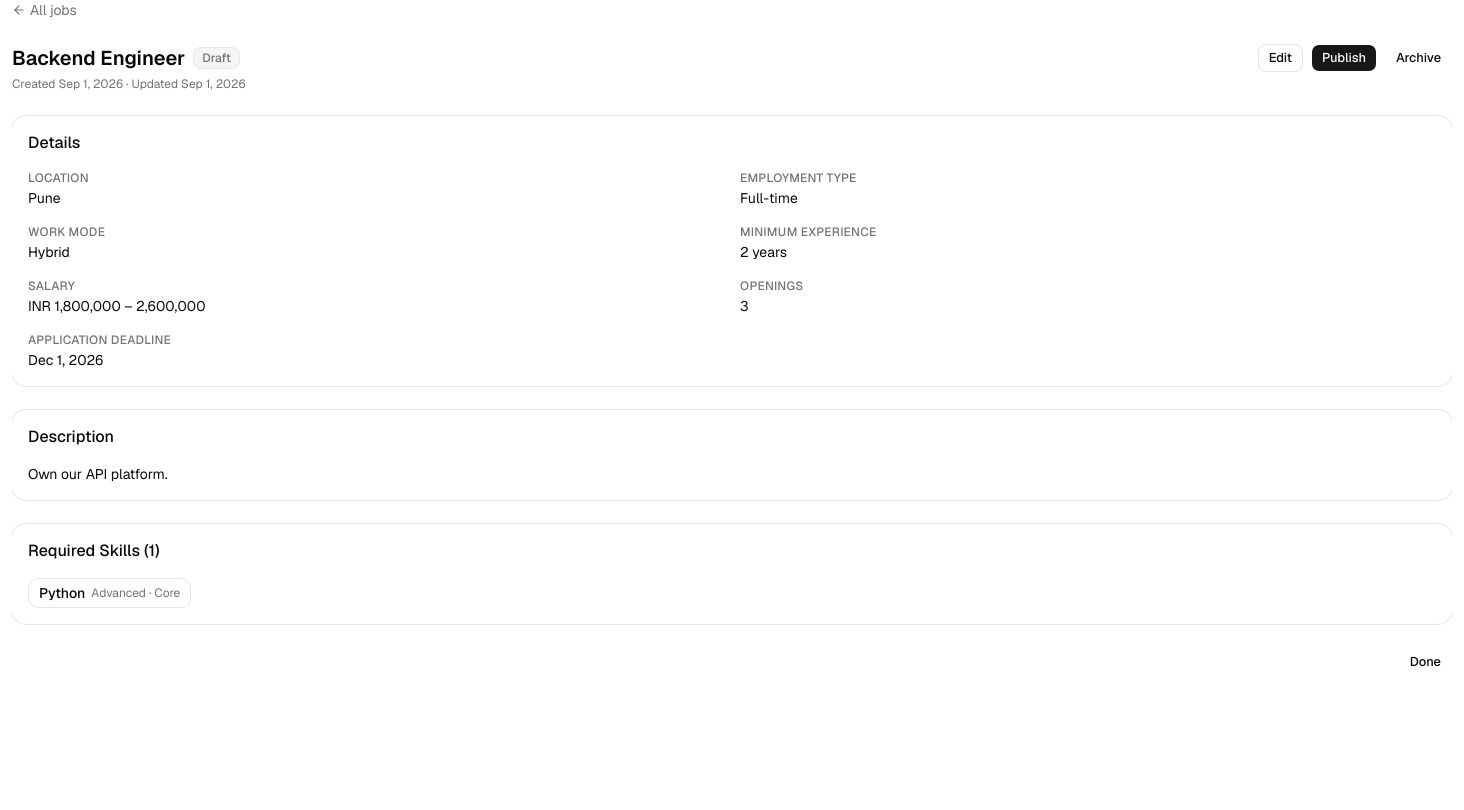
Scenario: JobDetailView › switches to the edit form and saves changes
This screenshot has width=1464, height=810.
Check: the heading "Backend Engineer" is shown, box x1=12 y1=44 x2=185 y2=72
Click the button "Edit". click: click(1280, 58)
box: x1=1258 y1=44 x2=1303 y2=72
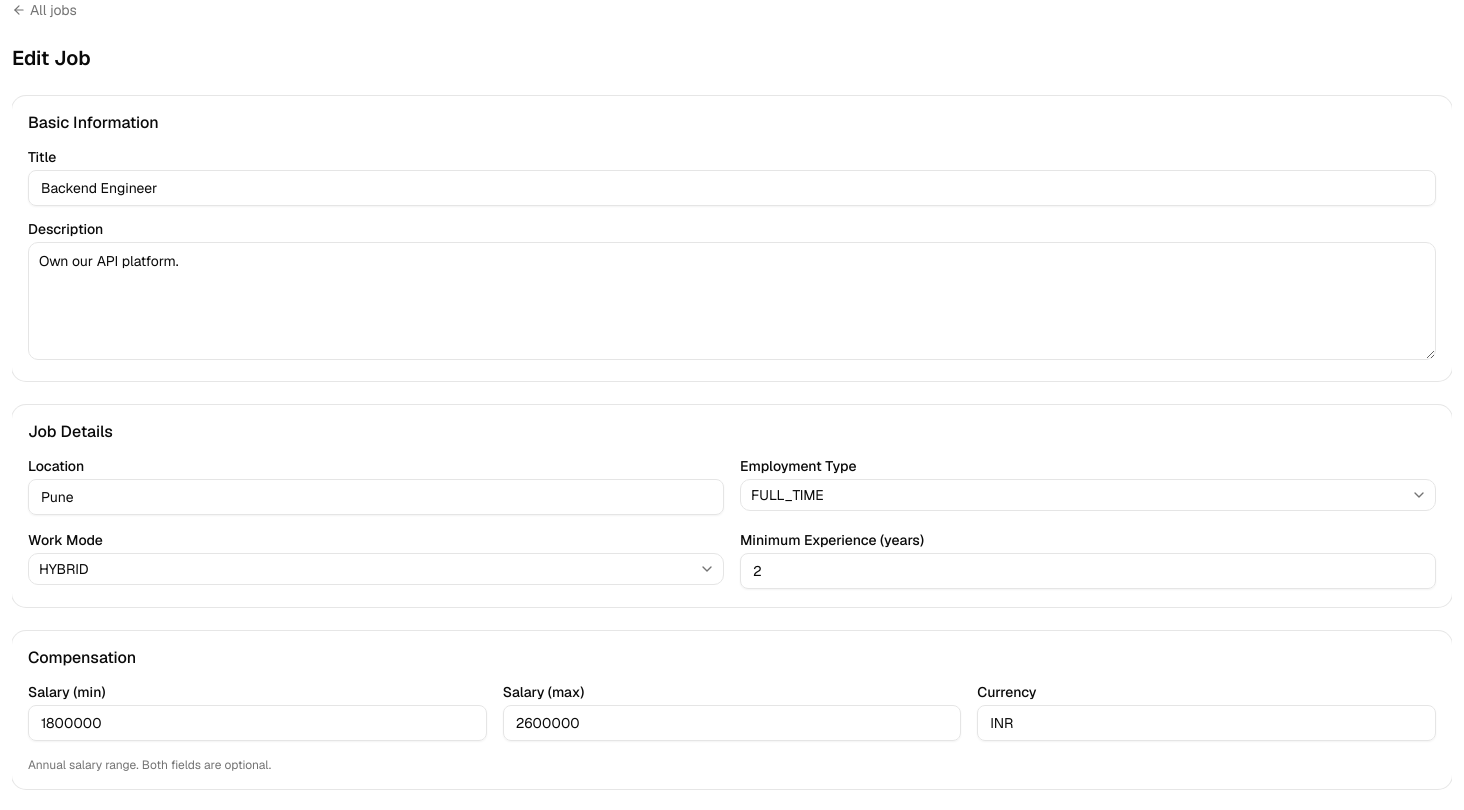
Replace the text in the field labelled "Title" with "Staff Backend Engineer". click: (732, 188)
box: x1=28 y1=170 x2=1436 y2=206
(page scrolled)
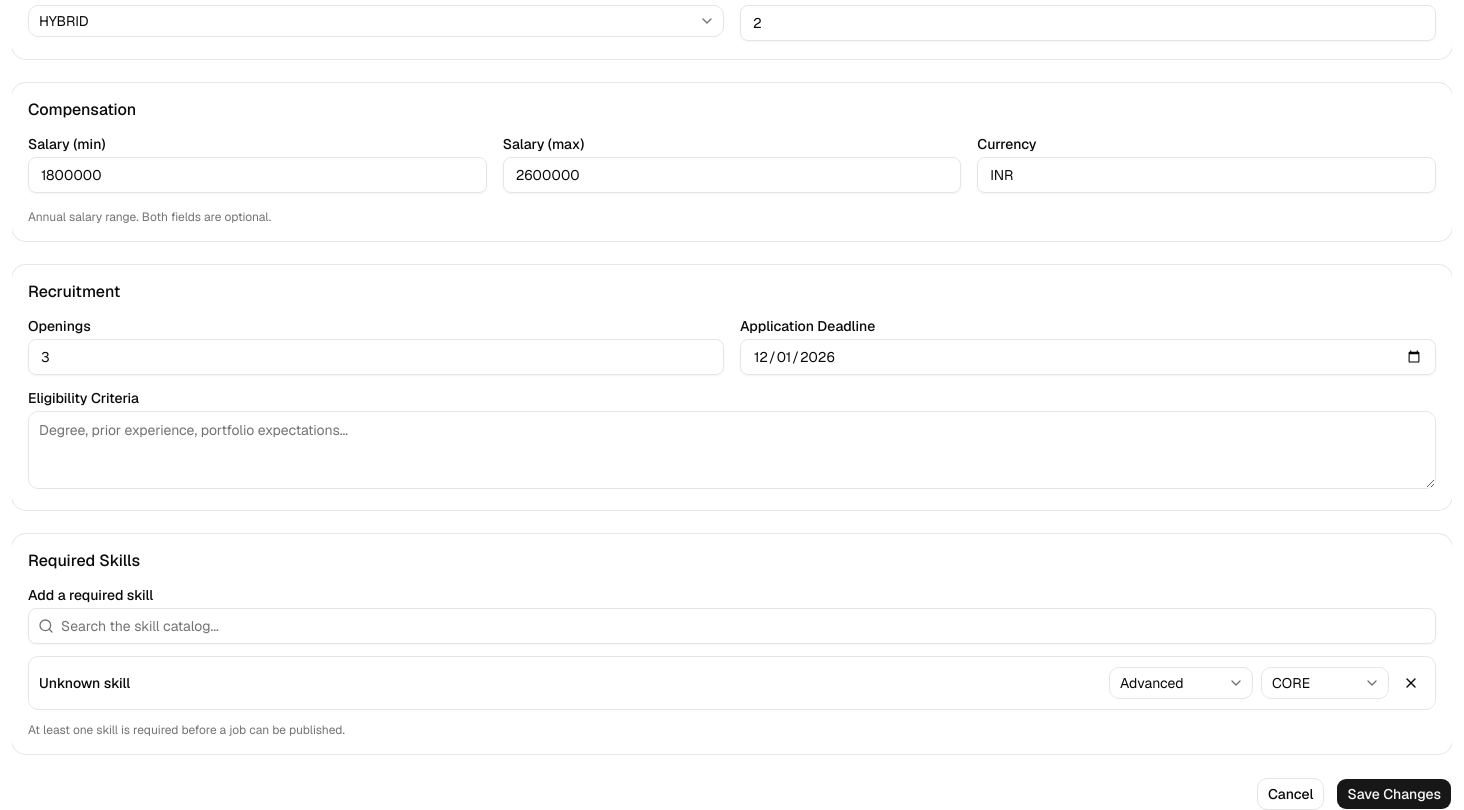
Click the button "Save Changes". click: click(1394, 794)
box: x1=1336 y1=778 x2=1452 y2=809
(page scrolled)
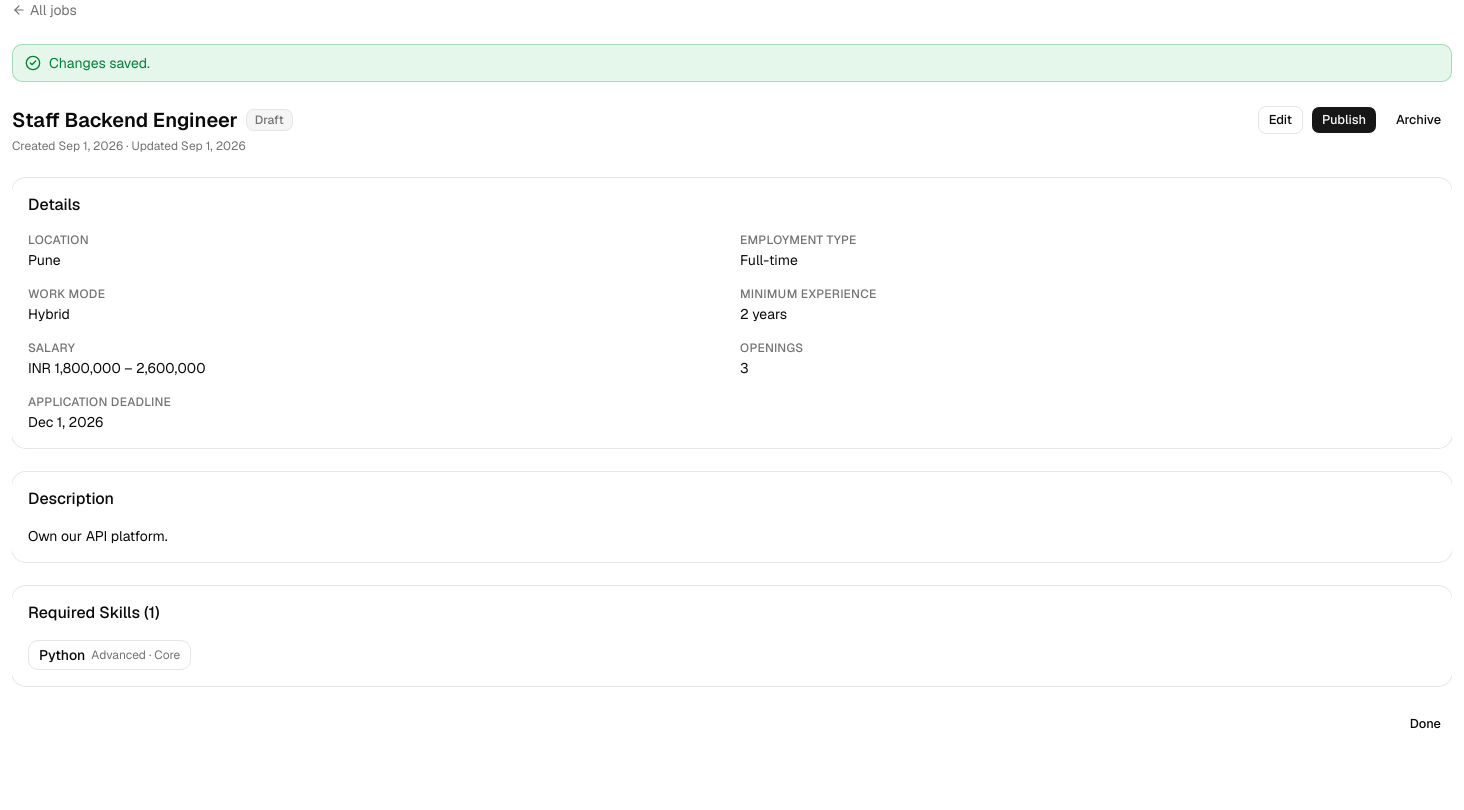
Check: the text "Changes saved." is shown, box x1=49 y1=53 x2=150 y2=73
Check: the heading "Staff Backend Engineer" is shown, box x1=12 y1=106 x2=238 y2=134
